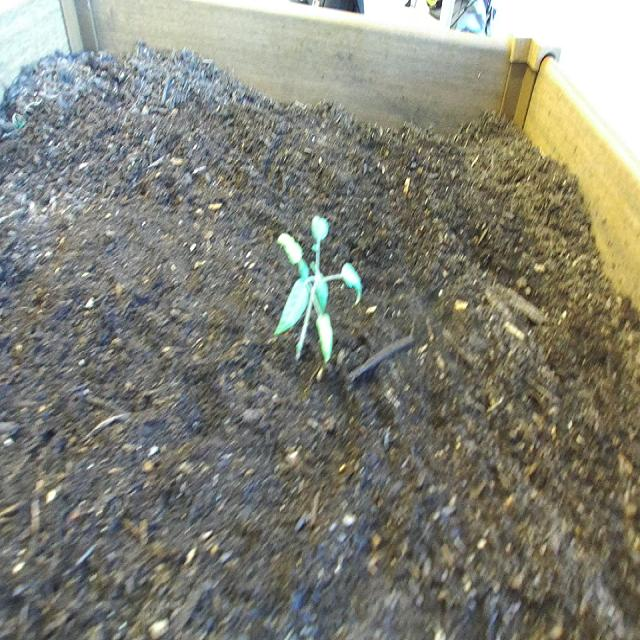Healthy: (269, 210, 368, 385)
